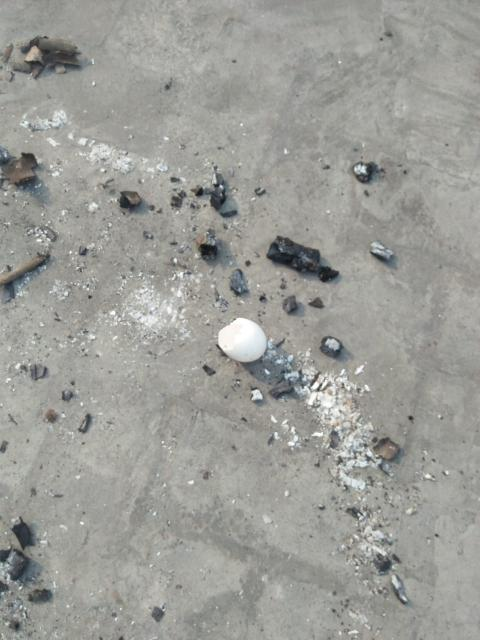Roto: (216, 316, 268, 363)
